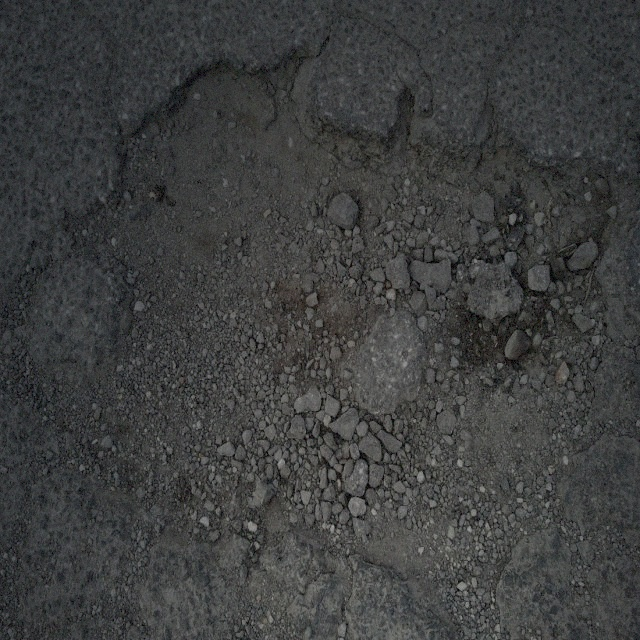pothole: (71, 32, 602, 475)
